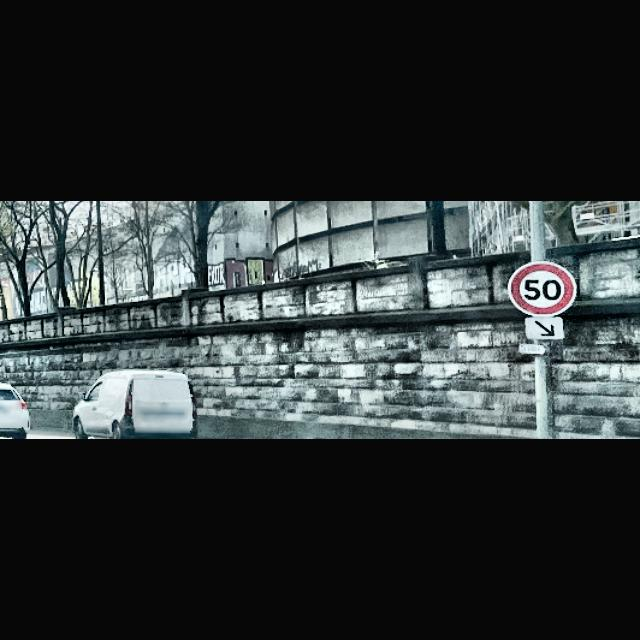speed_50: (508, 263, 576, 317)
